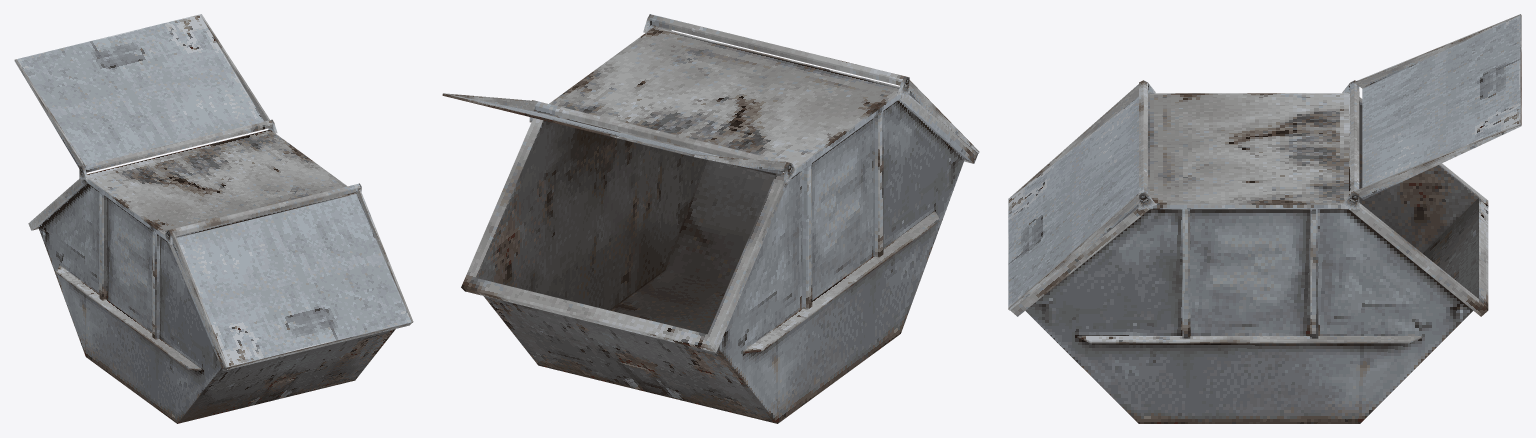
Rendered from trash_container.glb.
3 views of the same model, side by side, from view 1: azimuth 30°, elevation 25°; view 2: azimuth 150°, elevation 25°; view 3: azimuth 270°, elevation 25° (orthographic). The views are drawn at different scales.
Visible parts, largest first — view 1: container_0, Door1_1, Door2_2; view 2: container_0, Door2_2, Door1_1; view 3: container_0, Door2_2, Door1_1.
Boxes of the visible parts, x1=… form: container_0: x1=28, y1=119, x2=411, y2=423; Door1_1: x1=172, y1=187, x2=413, y2=368; Door2_2: x1=14, y1=14, x2=269, y2=168; container_0: x1=461, y1=14, x2=977, y2=423; Door2_2: x1=442, y1=93, x2=786, y2=174; Door1_1: x1=653, y1=25, x2=979, y2=153; container_0: x1=1010, y1=80, x2=1488, y2=423; Door2_2: x1=1355, y1=14, x2=1521, y2=199; Door1_1: x1=1008, y1=84, x2=1138, y2=310.
Bounding box in the file's own units: 1.04 × 1.26 × 1.94.
1 material, 1 textured.
